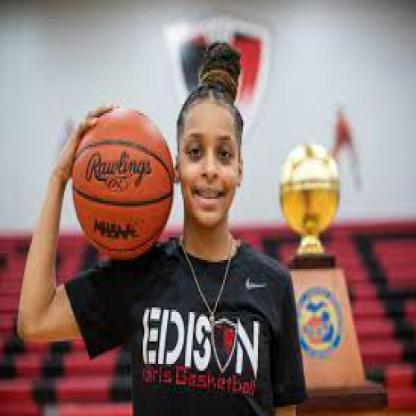basketball: (71, 106, 173, 260)
